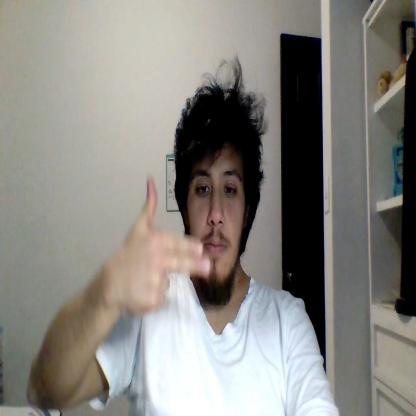H: (119, 176, 211, 313)
